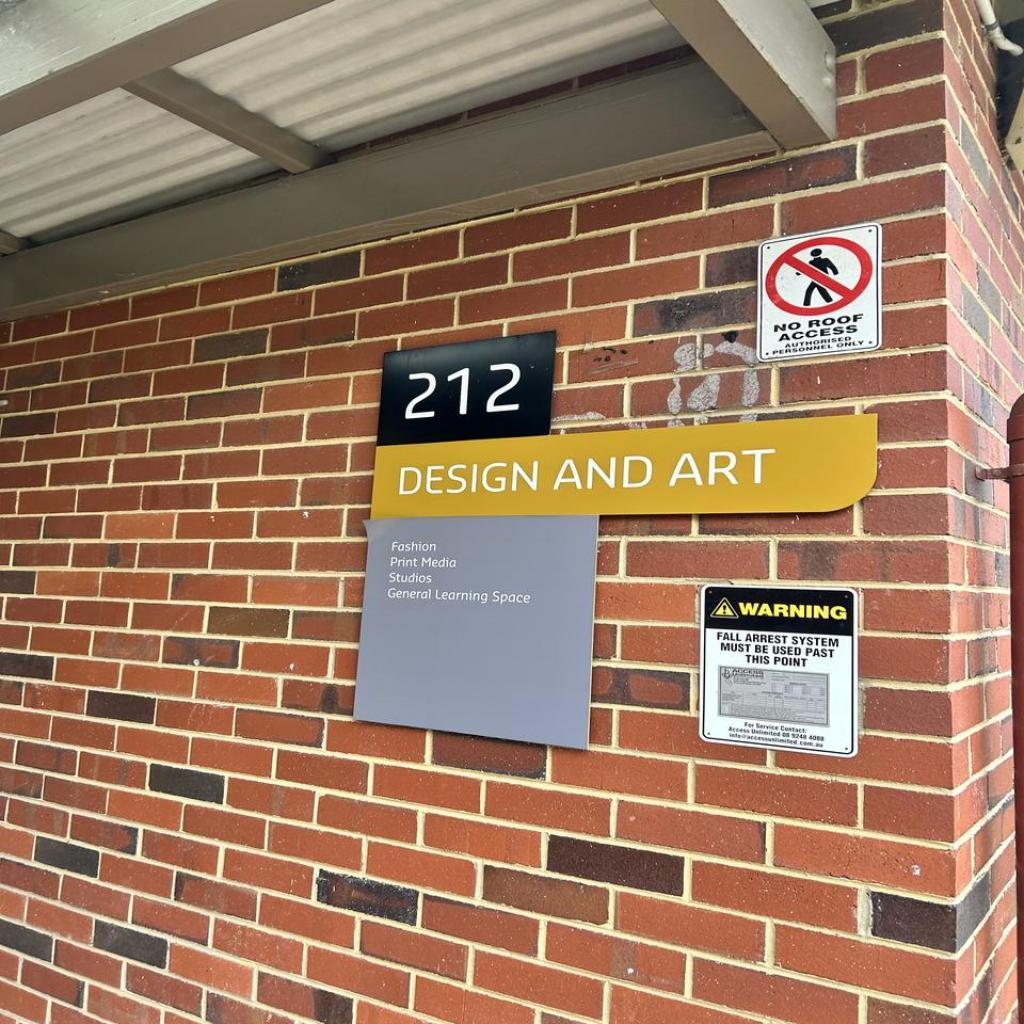BuildingCodes: (401, 358, 527, 426)
